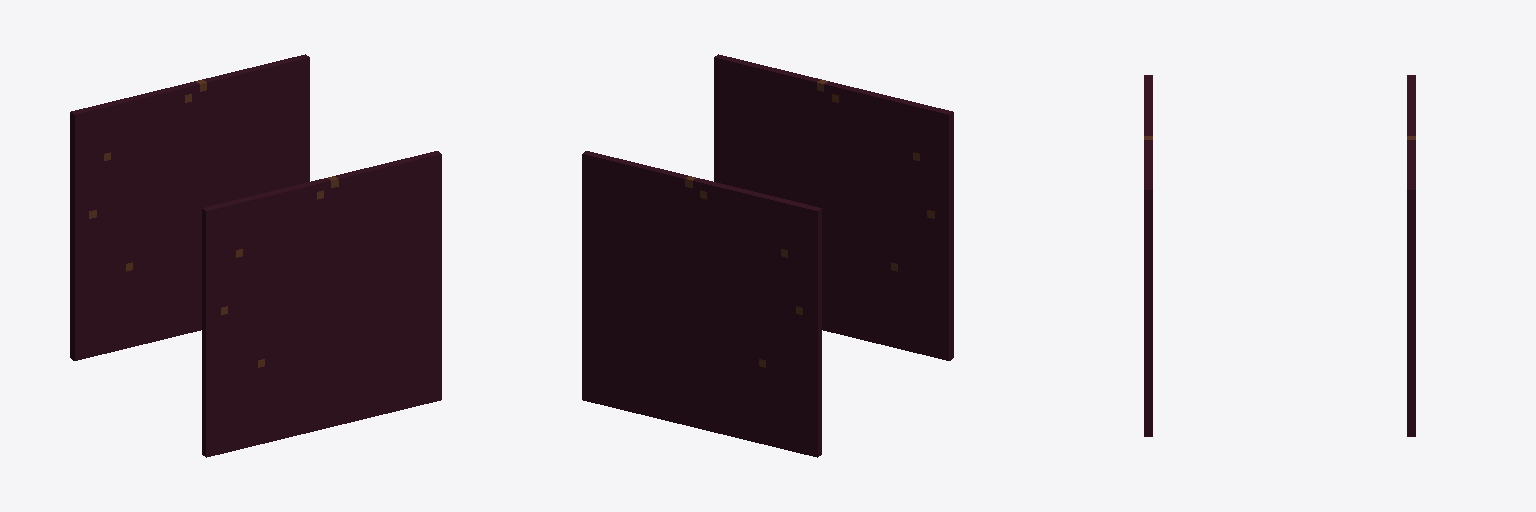
3 views of the same model, side by side, from view 1: azimuth 30°, elevation 25°; view 2: azimuth 150°, elevation 25°; view 3: azimuth 270°, elevation 25° (orthographic).
Visible parts, largest first — view 1: test-58; view 2: test-58; view 3: test-58.
Boxes of the visible parts, x1,y1,x2,y2 form: test-58: [70, 54, 441, 457]; test-58: [582, 54, 953, 457]; test-58: [1144, 75, 1415, 436].
Size of the model in its own units: 32 by 32 by 32.
1 materials, 1 textured.